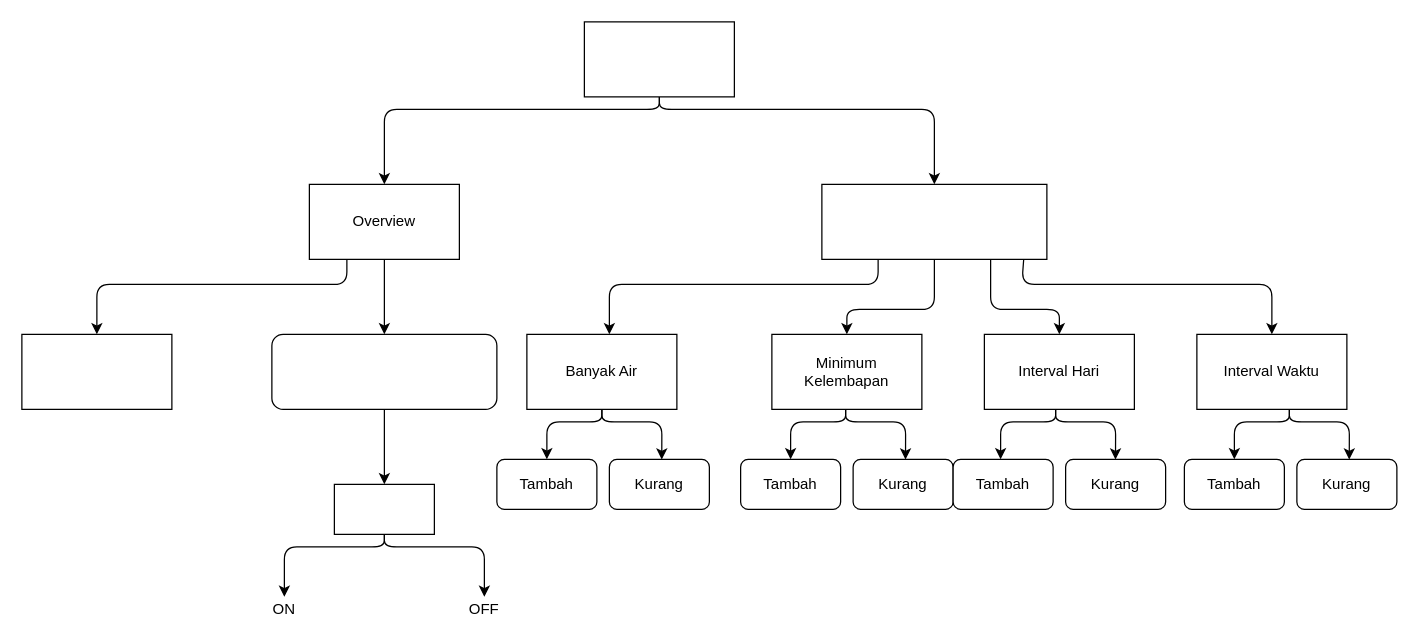
Image size: 1419x644. Some labels were removed from this diagram. The centre of each missing label's shape, as x and y in pixels:
"Grafik Kelembapan Tanah" goes at (x=96, y=371).
"Halaman Utama" goes at (x=658, y=59).
"Menyalakan / Mematikan Sistem" goes at (x=384, y=371).
"Setting /Controls" goes at (x=934, y=221).
"Tanaman" goes at (x=383, y=508).
